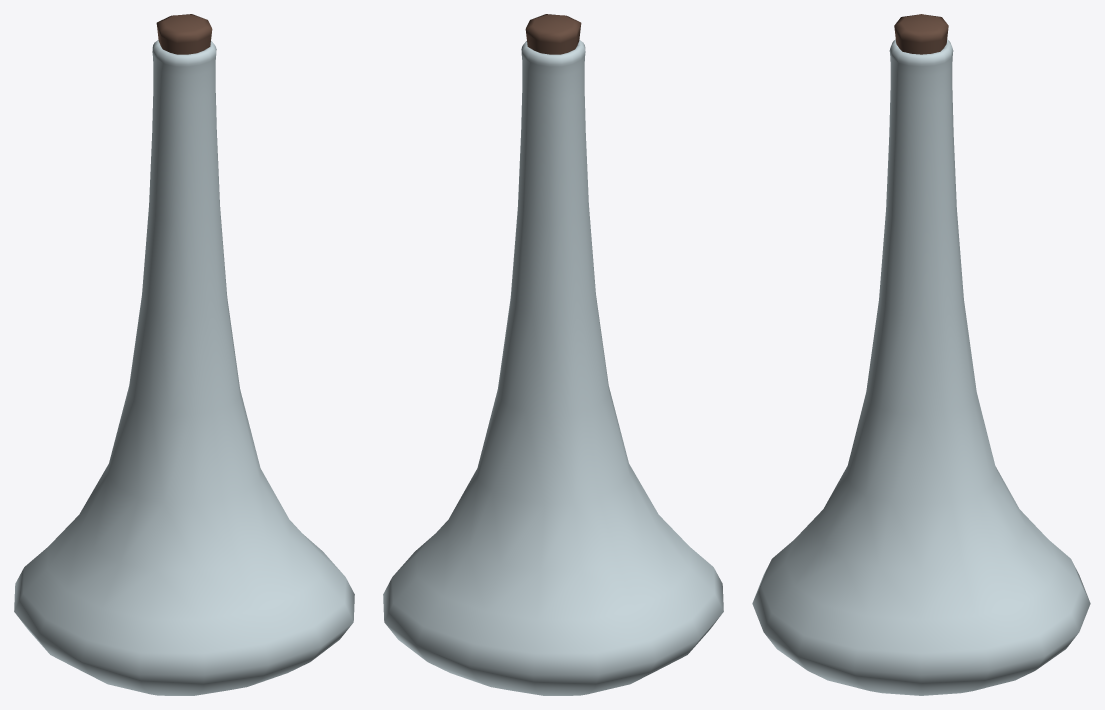
Rendered from rpg_potion7_filled.glb.
3 views of the same model, side by side, from view 1: azimuth 30°, elevation 25°; view 2: azimuth 150°, elevation 25°; view 3: azimuth 270°, elevation 25° (orthographic).
Parts seen in each view (by area): view 1: Potion7_Filled; view 2: Potion7_Filled; view 3: Potion7_Filled.
Boxes of the visible parts, box(x1,y1,x2,y2) form: Potion7_Filled: box(14, 14, 354, 695); Potion7_Filled: box(383, 14, 723, 695); Potion7_Filled: box(752, 14, 1090, 695).
Size of the model in its own units: 0.7035 by 1.51 by 0.7035.
